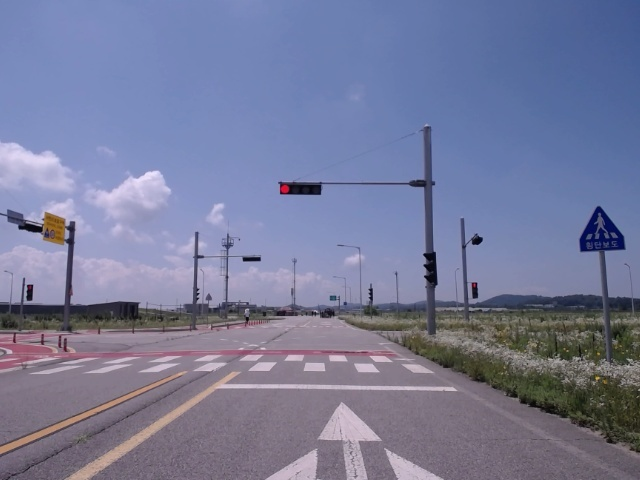red_4: (279, 184, 321, 195)
